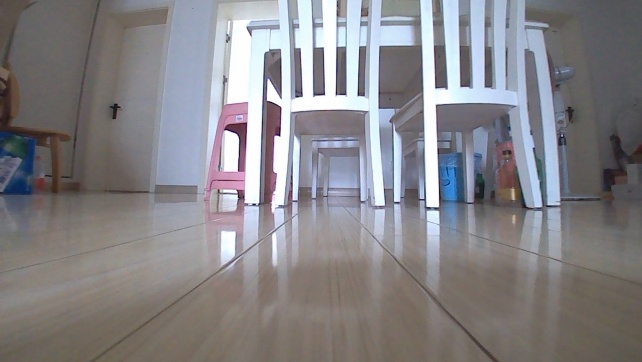chair_base: (556, 188, 605, 203)
dining_table: (240, 0, 562, 212)
door_anno: (101, 18, 171, 197)
